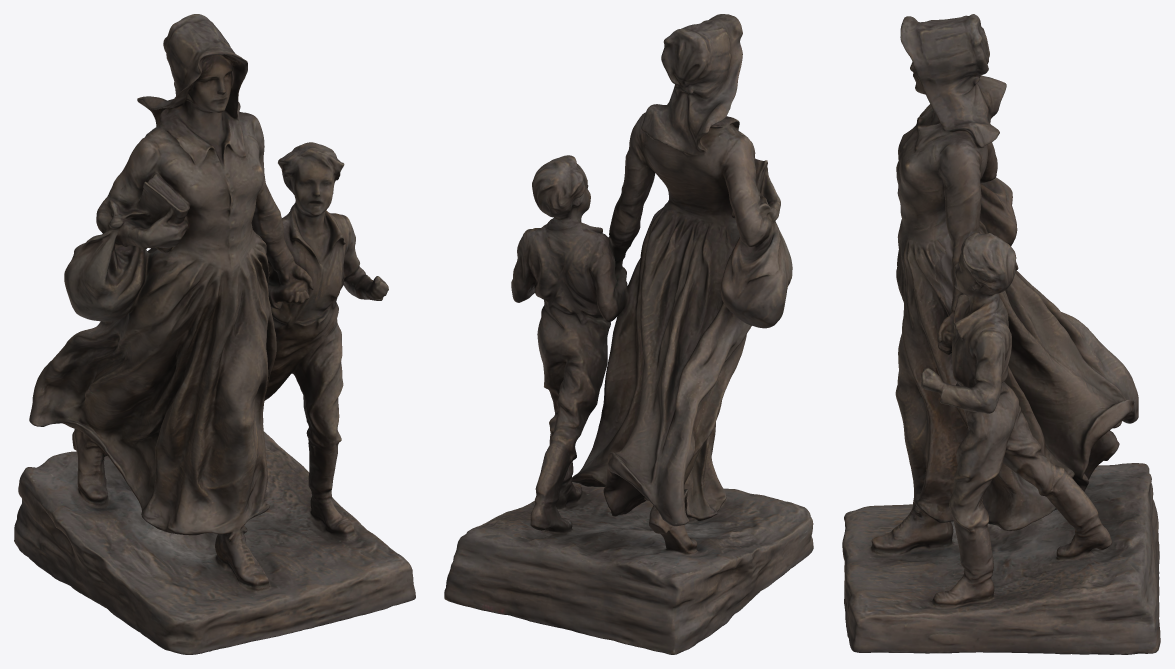
File: Pioneer_Woman_Smithsonian.glb
3 renders of one model, left to right at view 1: azimuth 30°, elevation 25°; view 2: azimuth 150°, elevation 25°; view 3: azimuth 270°, elevation 25°, orthographic. The views are drawn at different scales.
Parts seen in each view (by area): view 1: Pioneer_Woman-150k; view 2: Pioneer_Woman-150k; view 3: Pioneer_Woman-150k.
Boxes of the visible parts, bbox=[...] form: Pioneer_Woman-150k: bbox=[14, 14, 415, 654]; Pioneer_Woman-150k: bbox=[444, 14, 813, 654]; Pioneer_Woman-150k: bbox=[842, 14, 1160, 654].
Bounding box in the file's own units: 0.4381 × 0.8186 × 0.4232.
Materials: 1 (1 with a texture image).
